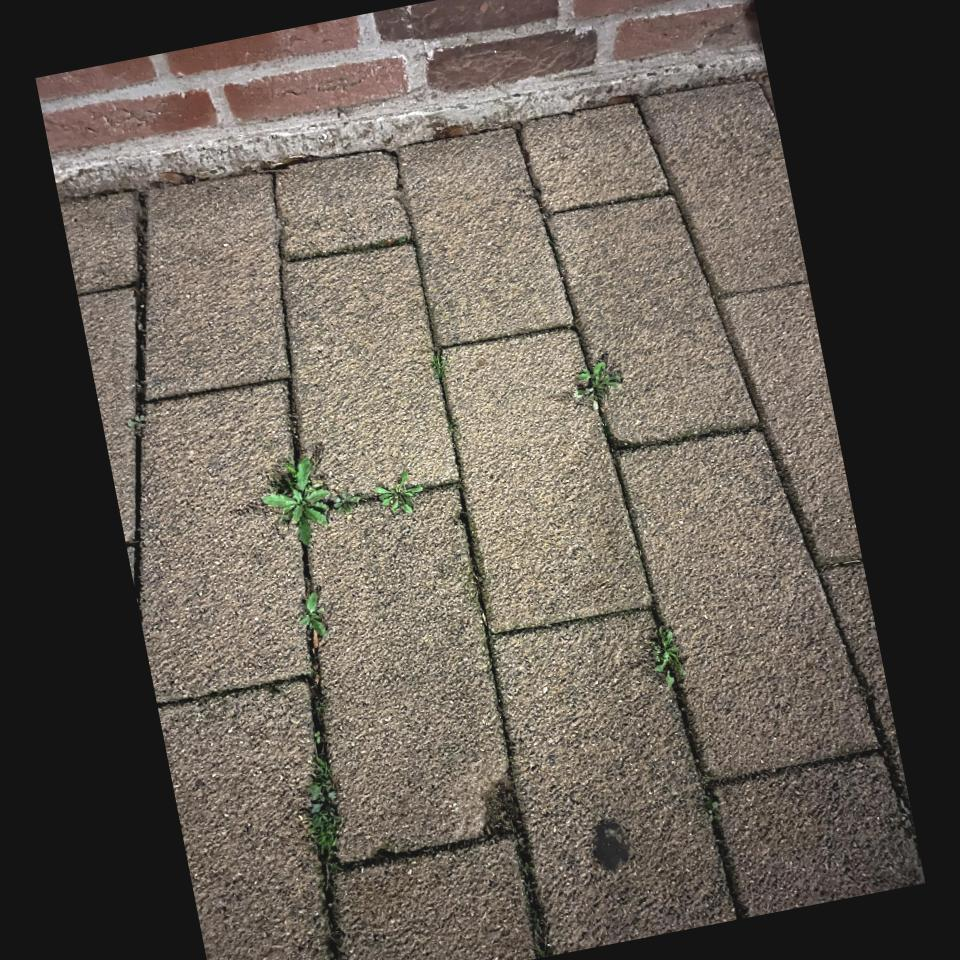weed: (286, 720, 366, 891), (259, 445, 345, 540), (286, 563, 372, 648), (365, 459, 437, 527), (654, 615, 696, 680), (576, 348, 616, 398)
